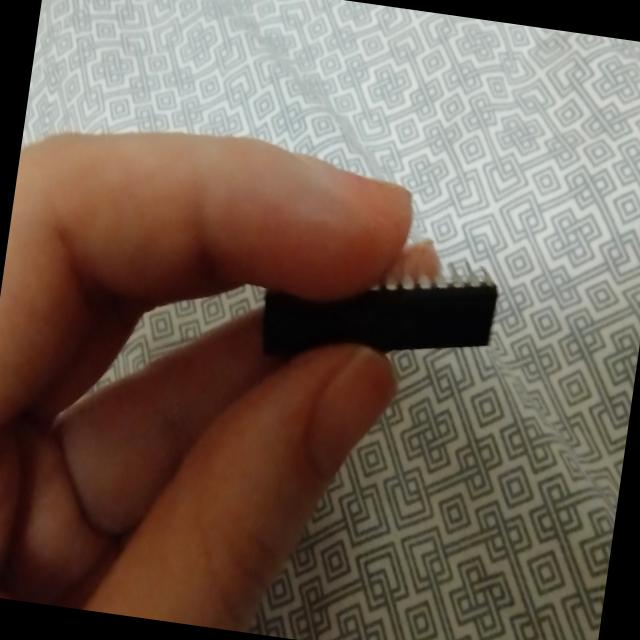atmega: (250, 230, 512, 376)
